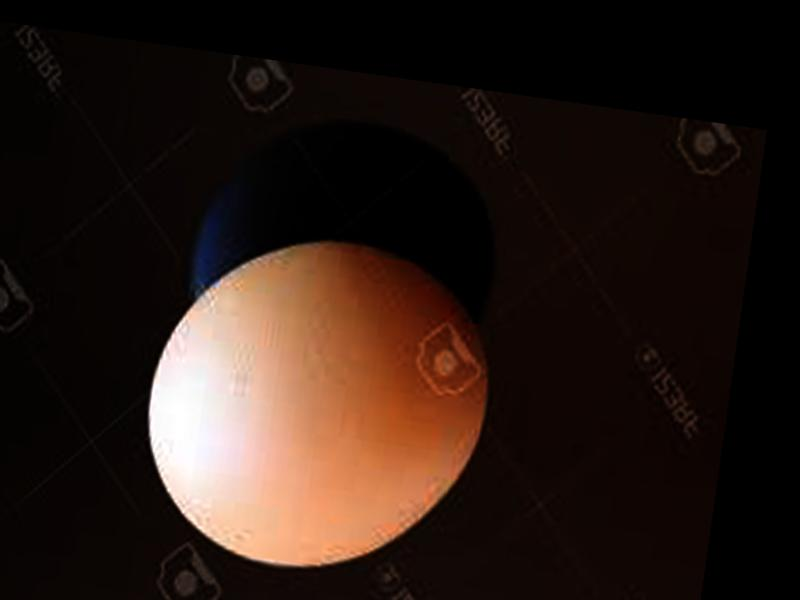Eggs: (127, 214, 505, 592)
